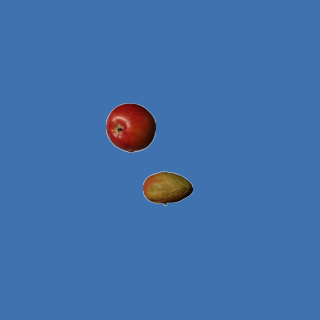Apple Braeburn: (105, 102, 155, 152)
Papaya: (142, 163, 192, 213)
